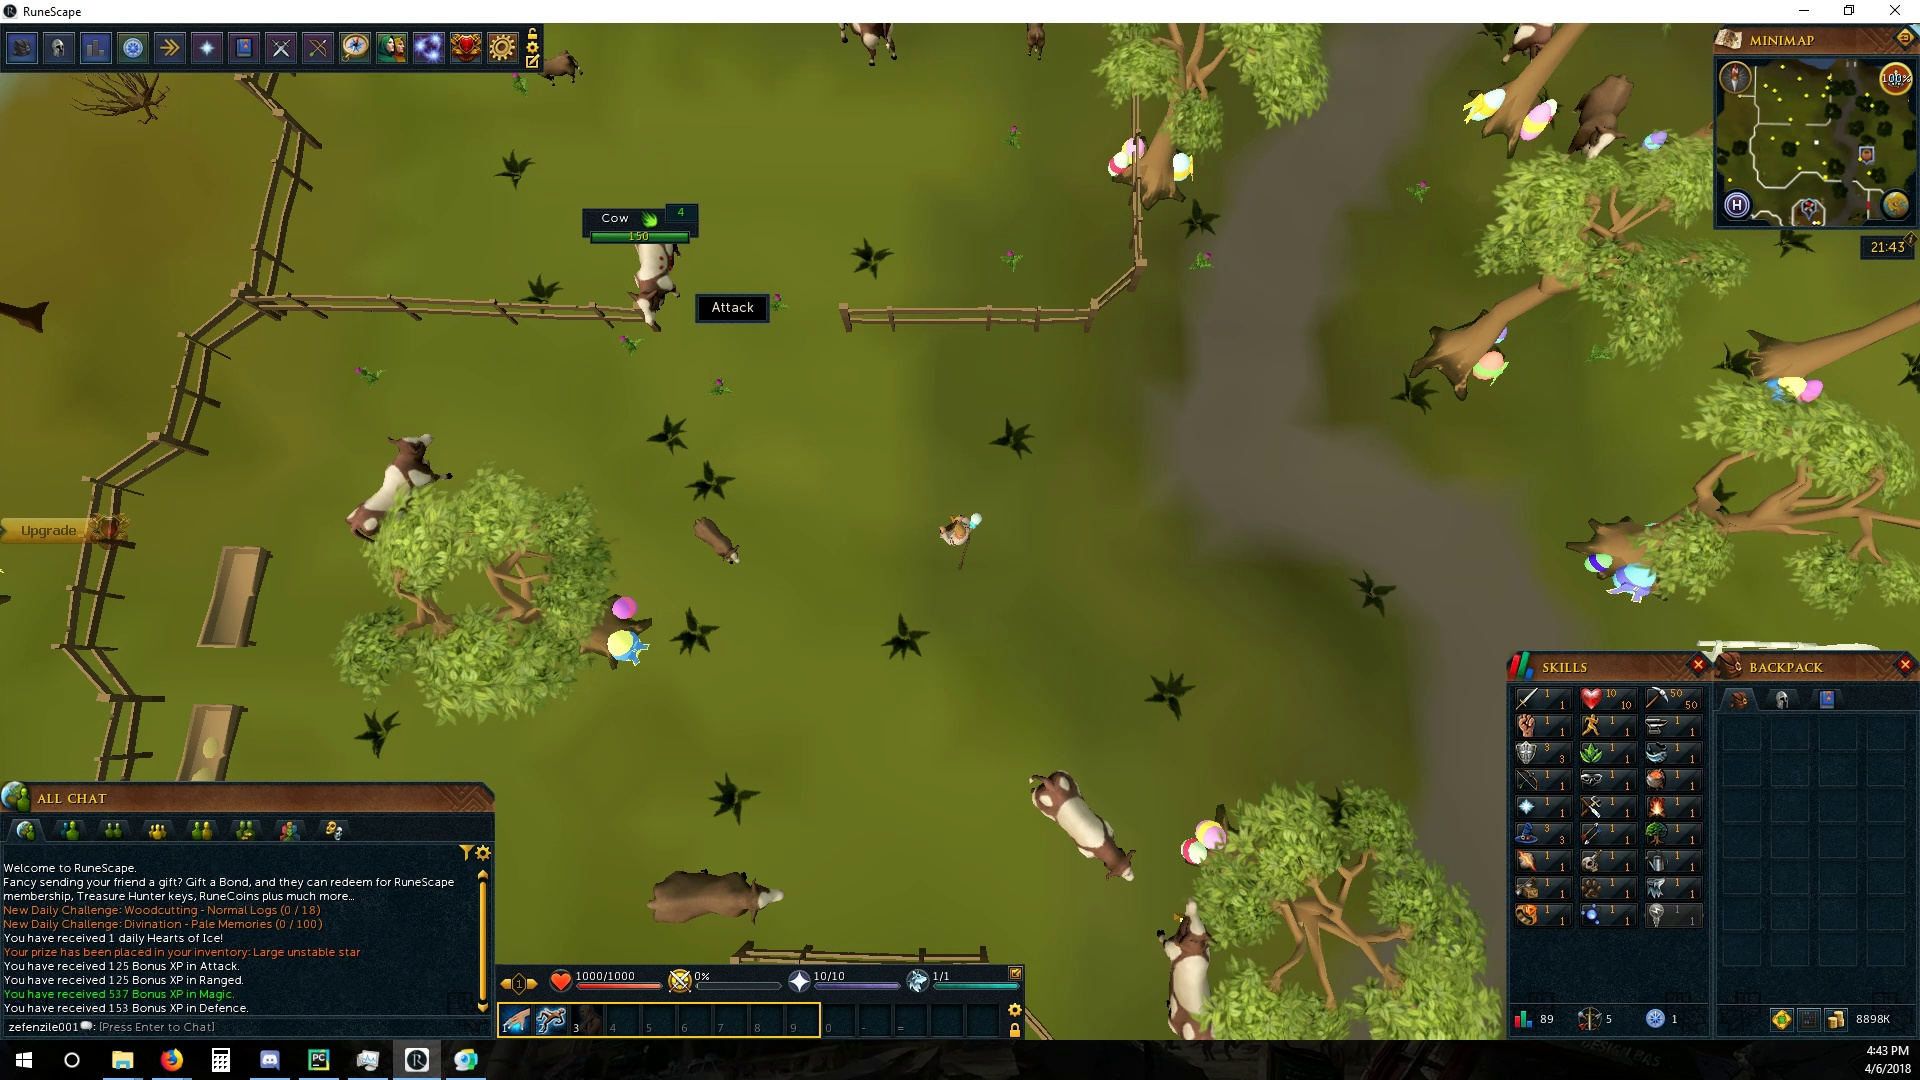calf: (692, 512, 748, 564), (534, 49, 591, 86)
cow: (1023, 766, 1139, 885), (344, 433, 458, 549), (644, 862, 786, 932), (1154, 897, 1221, 1039), (1564, 69, 1631, 164), (622, 245, 690, 328)
